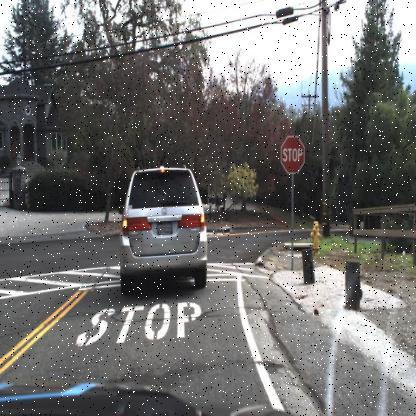car: (116, 162, 206, 294)
